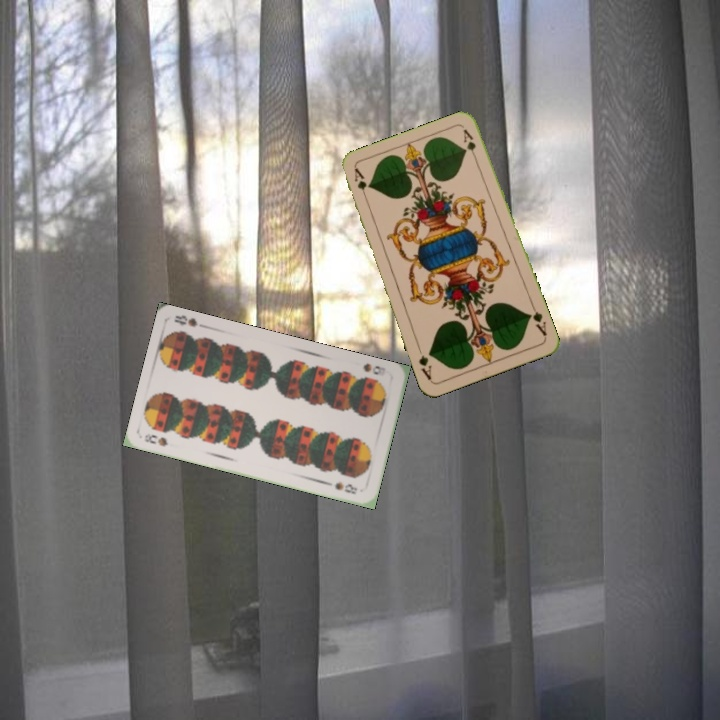GA: (524, 301, 549, 339), (350, 165, 371, 205)
S8: (140, 429, 171, 449), (359, 359, 383, 377)
